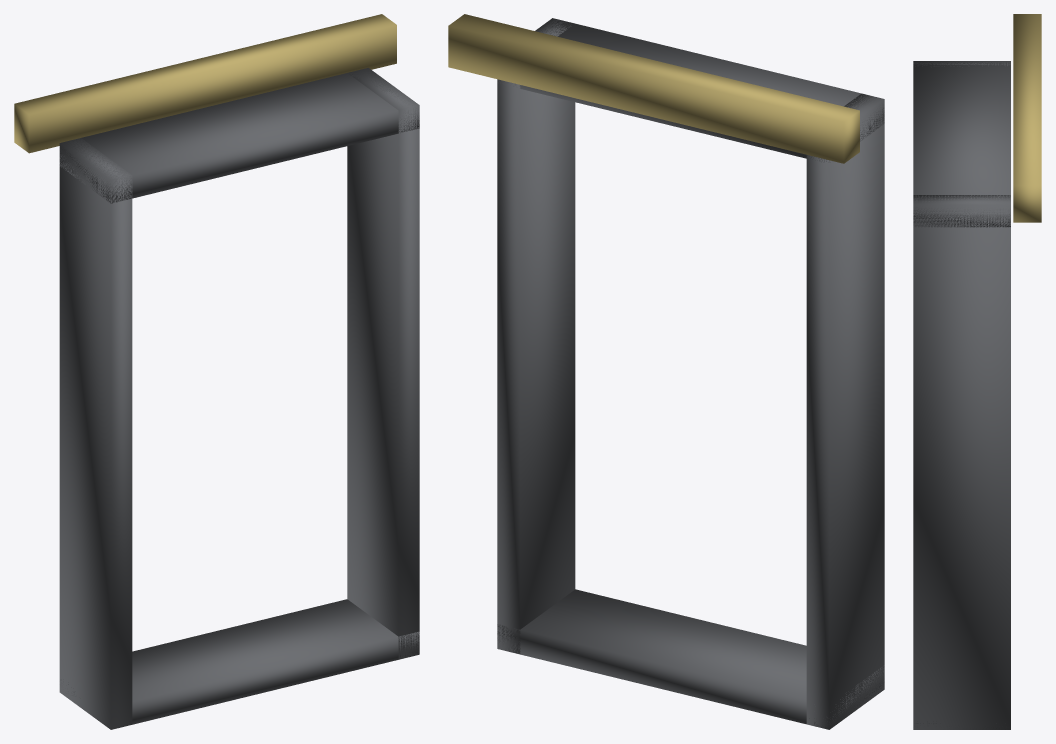
File: egress_window_motel_w72_h130_s72_d24.glb
3 views of the same model, side by side, from view 1: azimuth 30°, elevation 25°; view 2: azimuth 150°, elevation 25°; view 3: azimuth 270°, elevation 25° (orthographic). The views are drawn at different scales.
Visible parts, largest first — view 1: world; view 2: world; view 3: world.
Boxes of the visible parts, x1=… form: world: x1=14, y1=14, x2=419, y2=729; world: x1=448, y1=14, x2=884, y2=729; world: x1=913, y1=14, x2=1041, y2=729.
Bounding box in the file's own units: 0.9952 × 1.51 × 0.315.
